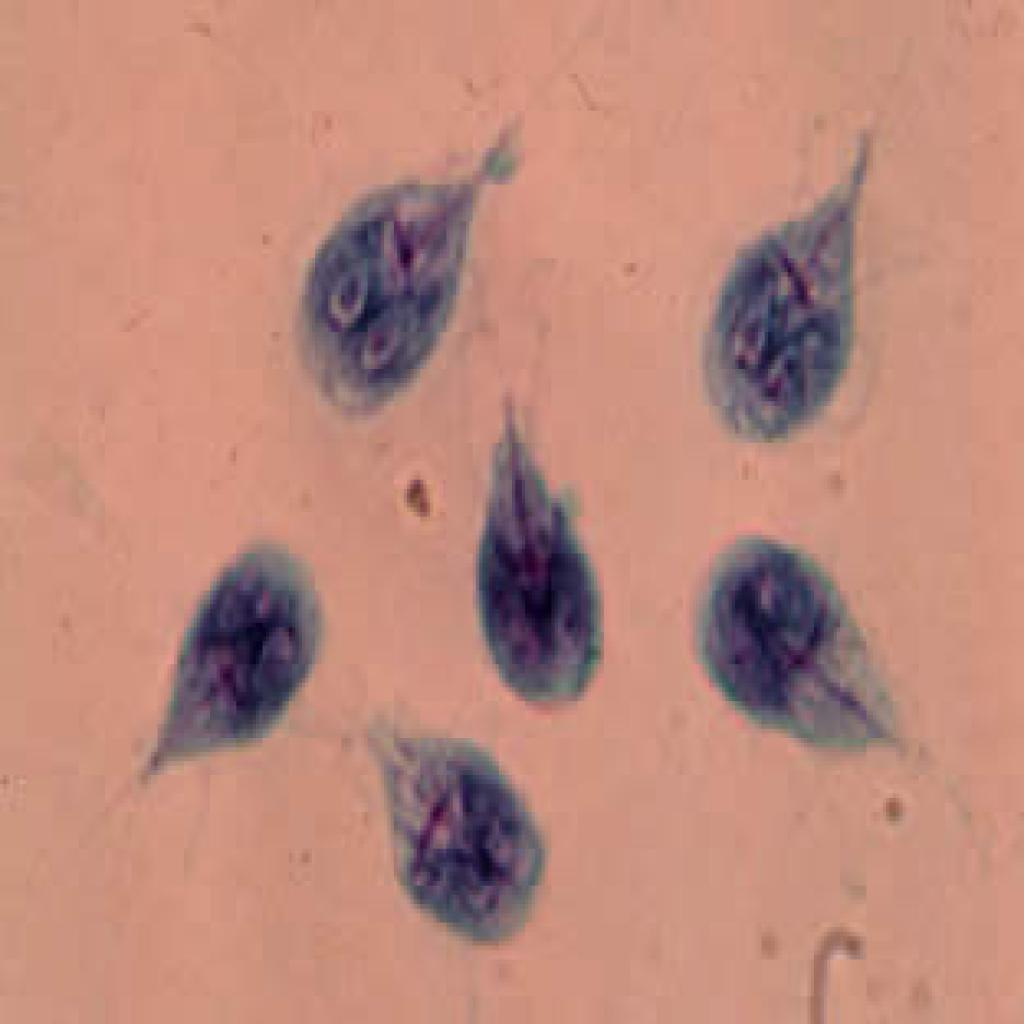Giardia: (696, 152, 870, 452), (286, 161, 479, 420), (690, 526, 900, 761), (141, 530, 325, 789), (361, 706, 545, 955), (473, 420, 604, 710)
